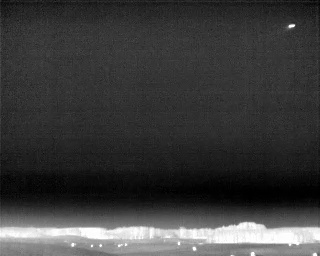AIRPLANE: (285, 21, 298, 32)
